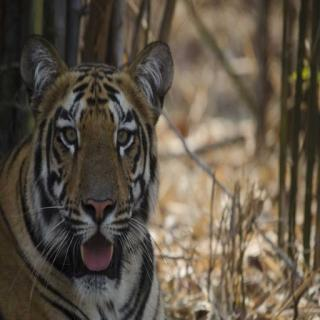Tiger: (0, 24, 198, 320)
